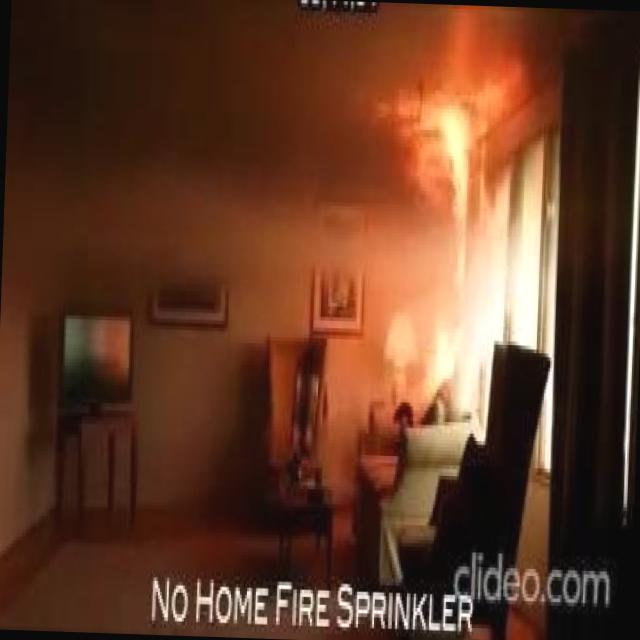fire: (364, 13, 536, 406)
